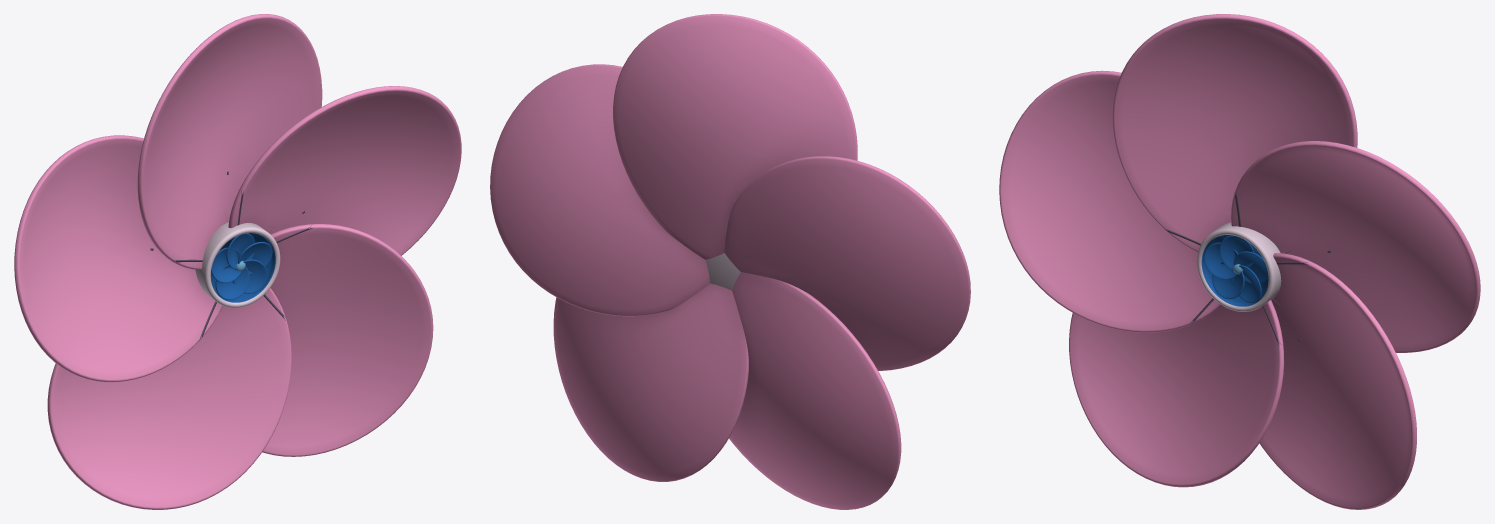
File: flower-web.glb
The picture shows the model from 3 angles, left to right: view 1: azimuth 30°, elevation 25°; view 2: azimuth 150°, elevation 25°; view 3: azimuth 330°, elevation 25°; orthographic projection. The views are drawn at different scales.
Parts seen in each view (by area): view 1: Flower.001; view 2: Flower.001; view 3: Flower.001.
Boxes of the visible parts, <box> form: Flower.001: <box>14,14,461,509</box>; Flower.001: <box>490,14,970,509</box>; Flower.001: <box>999,14,1480,509</box>.
Bounding box in the file's own units: 1.96 × 1.91 × 0.2447.
